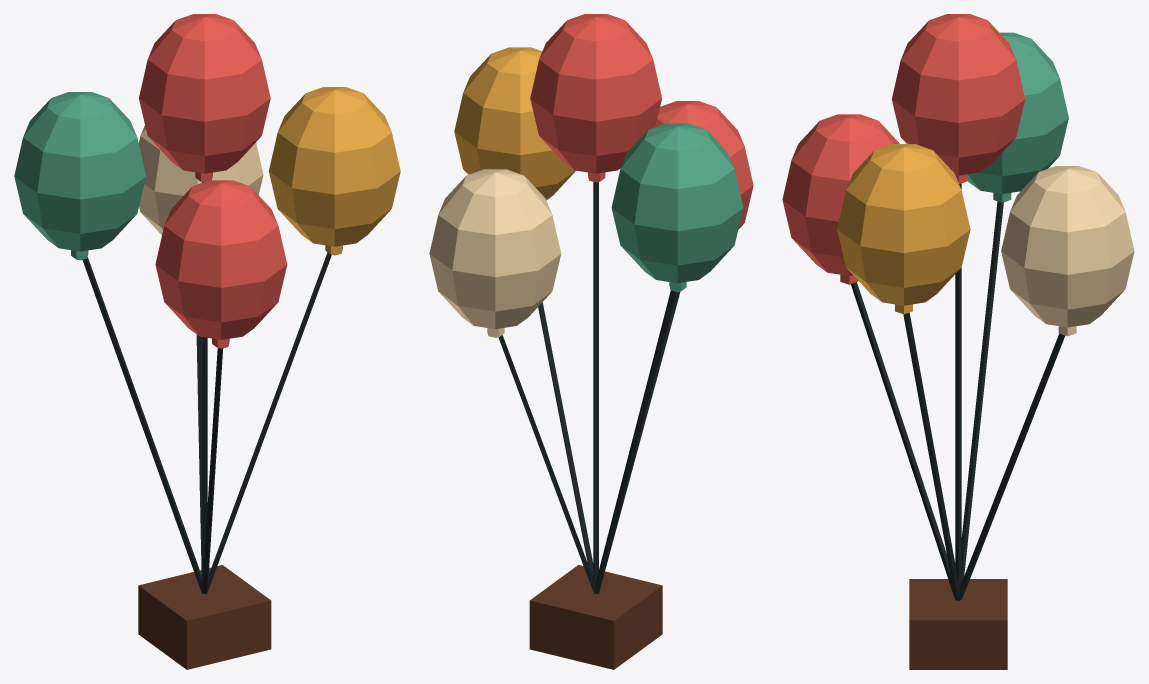
File: ParkParkDecorBalloons.obj
3 views of the same model, side by side, from view 1: azimuth 30°, elevation 25°; view 2: azimuth 150°, elevation 25°; view 3: azimuth 270°, elevation 25° (orthographic).
Visible parts, largest first — view 1: ParkParkDecorBalloons; view 2: ParkParkDecorBalloons; view 3: ParkParkDecorBalloons.
Part boxes in pixels (x1,y1,x2,y2): ParkParkDecorBalloons: (14,14,400,669); ParkParkDecorBalloons: (429,14,753,669); ParkParkDecorBalloons: (782,14,1134,669).
Bounding box in the file's own units: 3.4 × 6.38 × 3.22.
